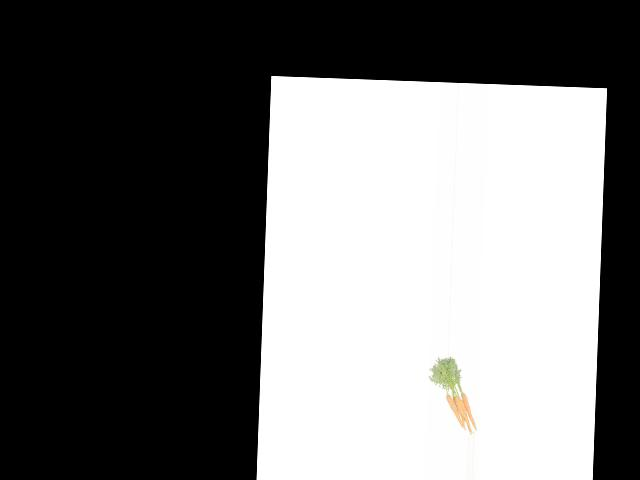carrot: (458, 390, 482, 431)
